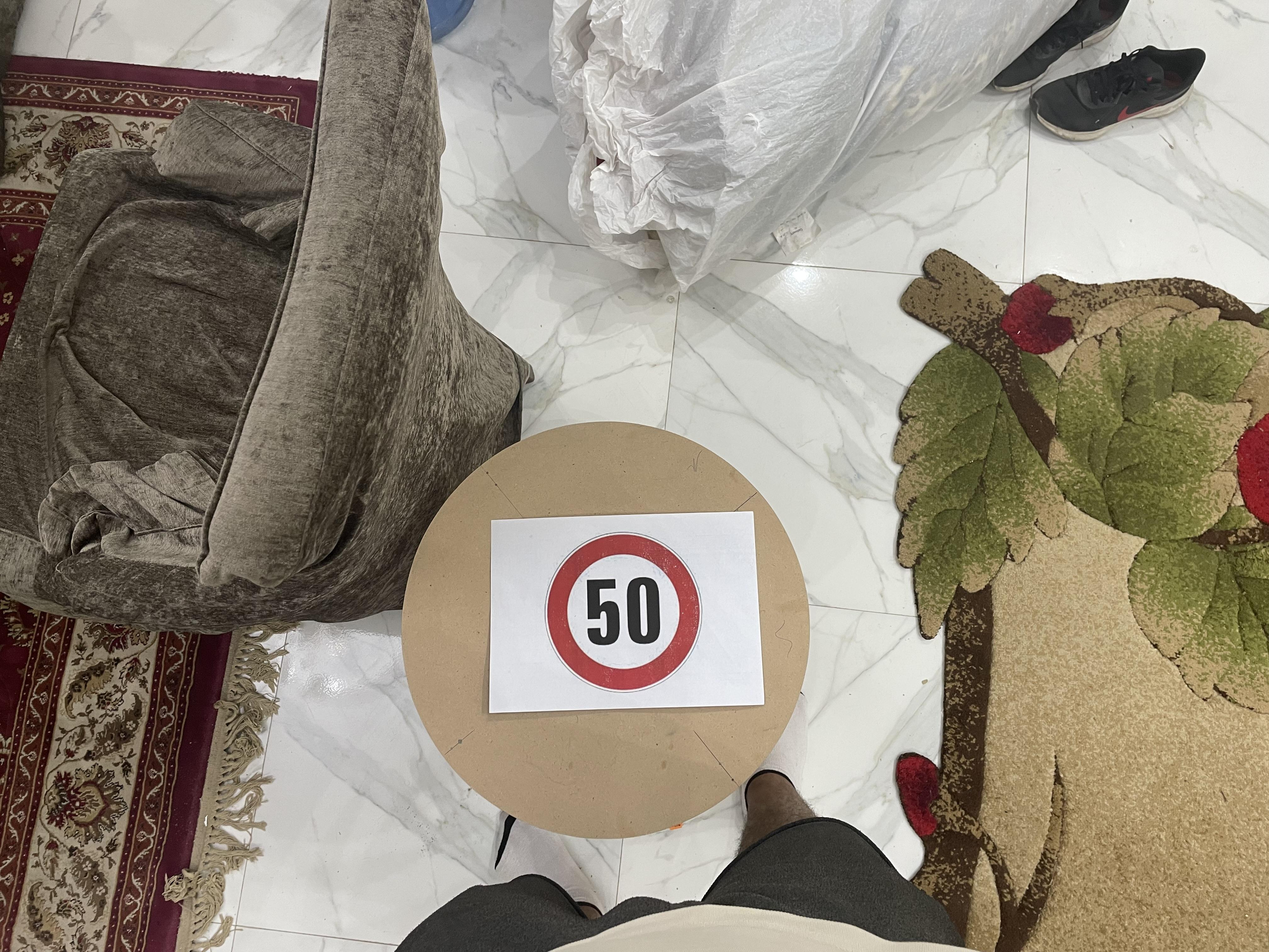50-Speed: (568, 260, 725, 422)
